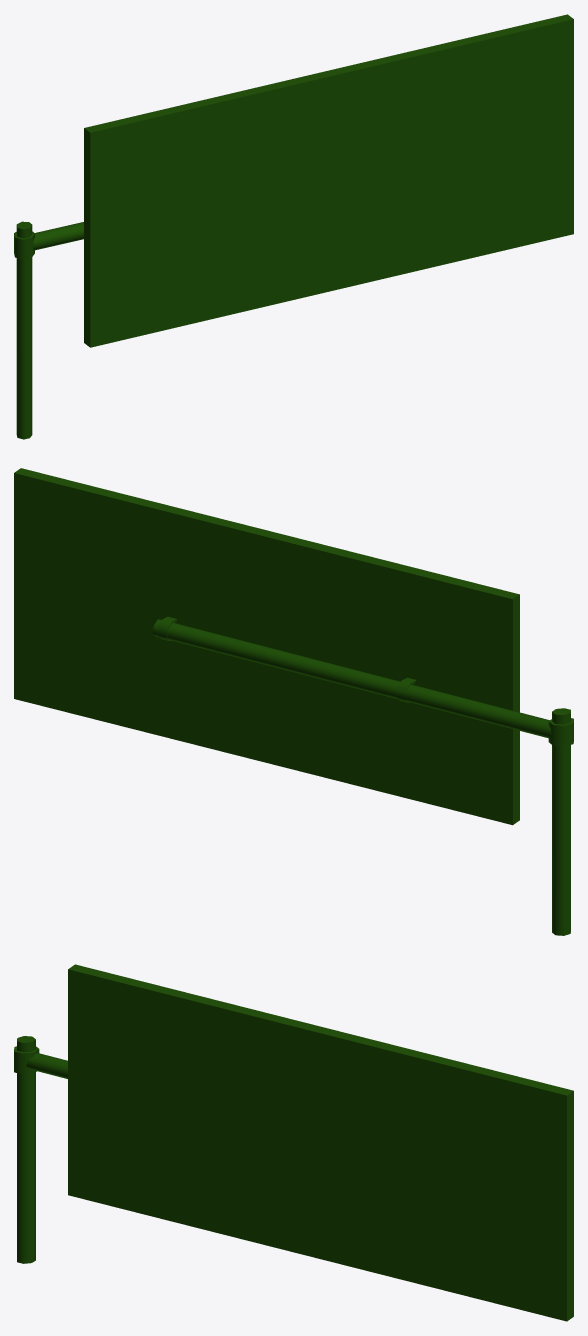
File: T2_SpeedSigns3.fbx
3 views of the same model, one above another, from view 1: azimuth 30°, elevation 25°; view 2: azimuth 150°, elevation 25°; view 3: azimuth 330°, elevation 25° (orthographic). The views are drawn at different scales.
Parts seen in each view (by area): view 1: T2_SpeedSigns3; view 2: T2_SpeedSigns3; view 3: T2_SpeedSigns3.
Boxes of the visible parts, left/top/right/bottom form: T2_SpeedSigns3: left=14, top=14, right=573, bottom=439; T2_SpeedSigns3: left=14, top=468, right=573, bottom=935; T2_SpeedSigns3: left=14, top=964, right=573, bottom=1321.
Bounding box in the file's own units: 0.9274 × 0.489 × 0.069.
